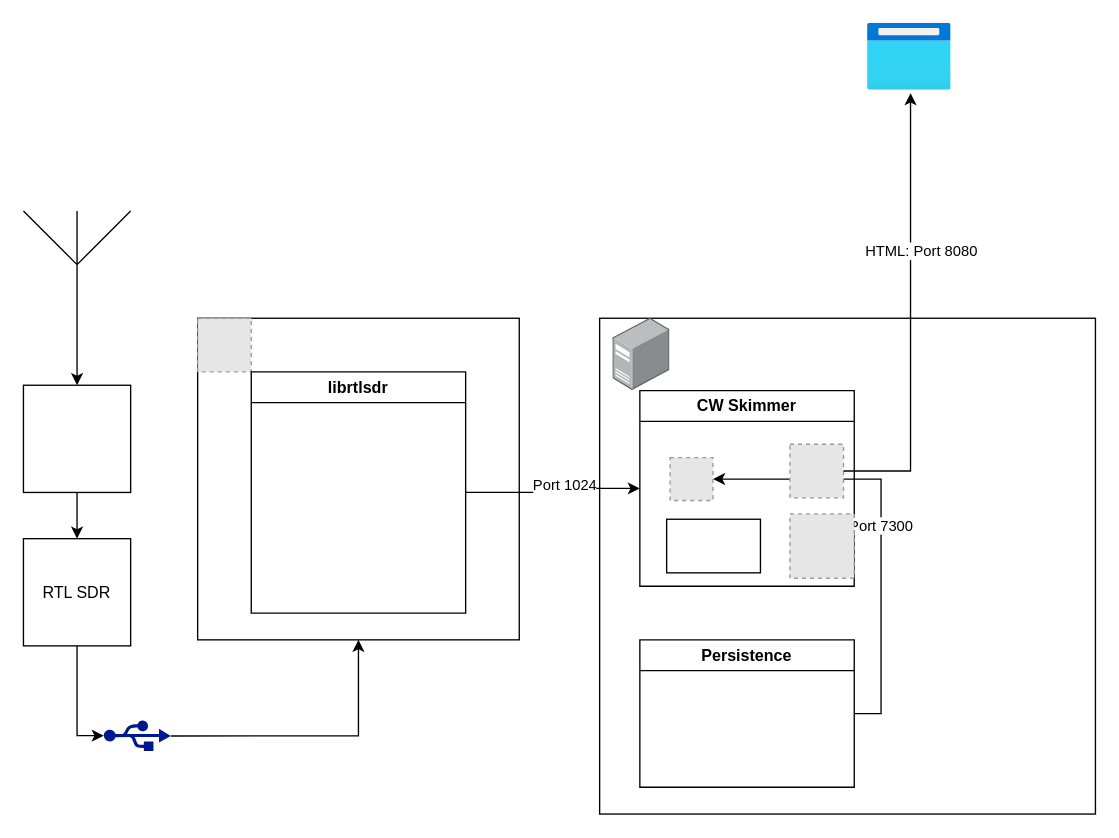
The diagram is 1119 pixels wide and 838 high, and some of its shapes have lost their labels. Grey dashed boxes stand in for pictures. The centre of each missing label's shape, as x and y in pixels:
Loop Amplifier: (x=76, y=438)
RBN Aggregator: (x=712, y=545)
